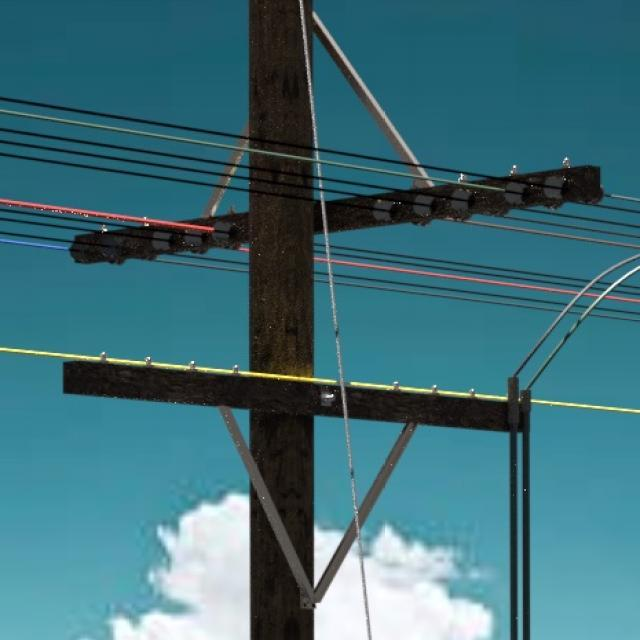crossarm: (73, 167, 603, 263), (65, 365, 529, 435)
pole: (247, 0, 318, 640)
